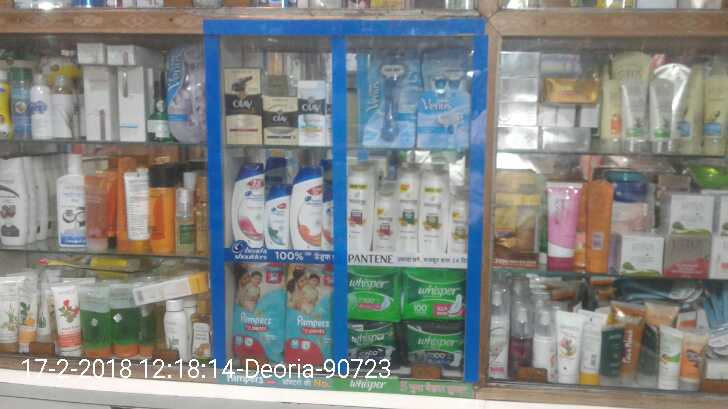venus: (362, 53, 417, 143), (165, 45, 209, 142), (417, 94, 467, 143), (422, 55, 466, 92)
